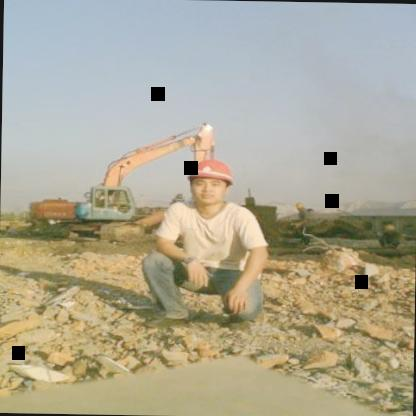helmet: (176, 152, 239, 214)
